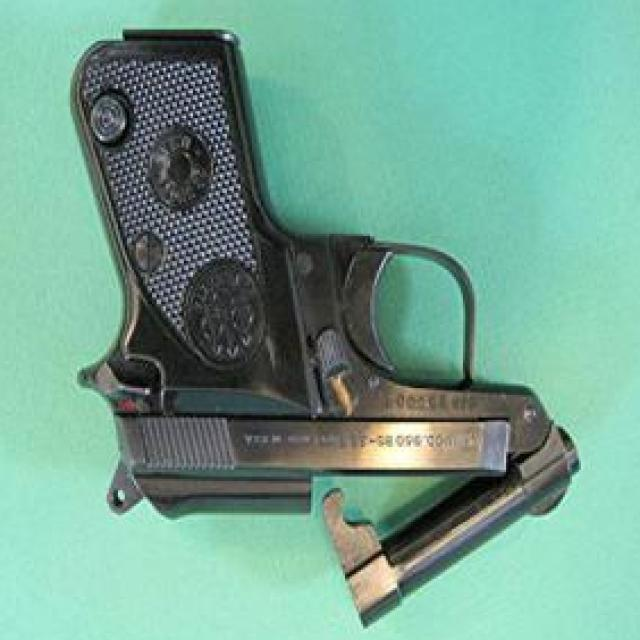pistol: (64, 21, 578, 631)
